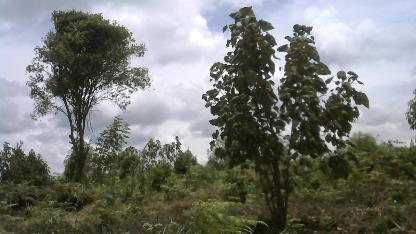tree: (200, 3, 373, 226), (17, 2, 150, 186)
